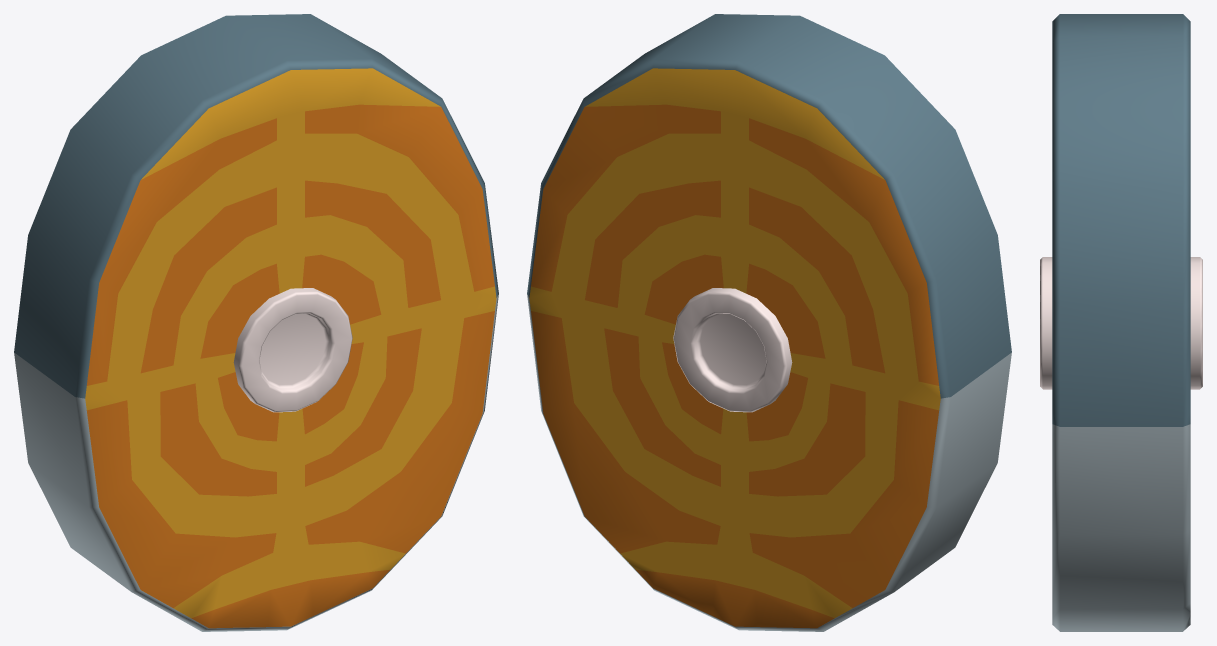
The model's file is Salmon_2_Slice.fbx.
3 renders of one model, left to right at view 1: azimuth 30°, elevation 25°; view 2: azimuth 150°, elevation 25°; view 3: azimuth 270°, elevation 25°, orthographic.
Parts seen in each view (by area): view 1: Salmon_2_Slice; view 2: Salmon_2_Slice; view 3: Salmon_2_Slice.
Part boxes in pixels (x1,y1,x2,y2): Salmon_2_Slice: (14, 14, 498, 631); Salmon_2_Slice: (527, 14, 1011, 631); Salmon_2_Slice: (1040, 14, 1202, 631).
Size of the model in its own units: 20.5 by 26.33 by 6.79.
